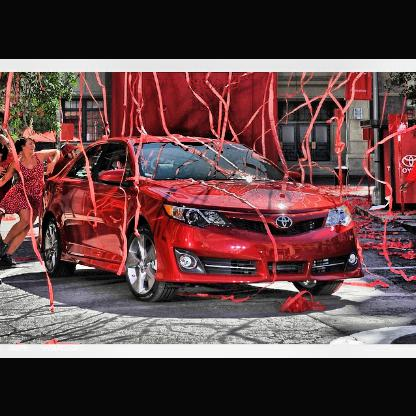Toyota Camry Sedan 2012: (36, 134, 369, 306)
